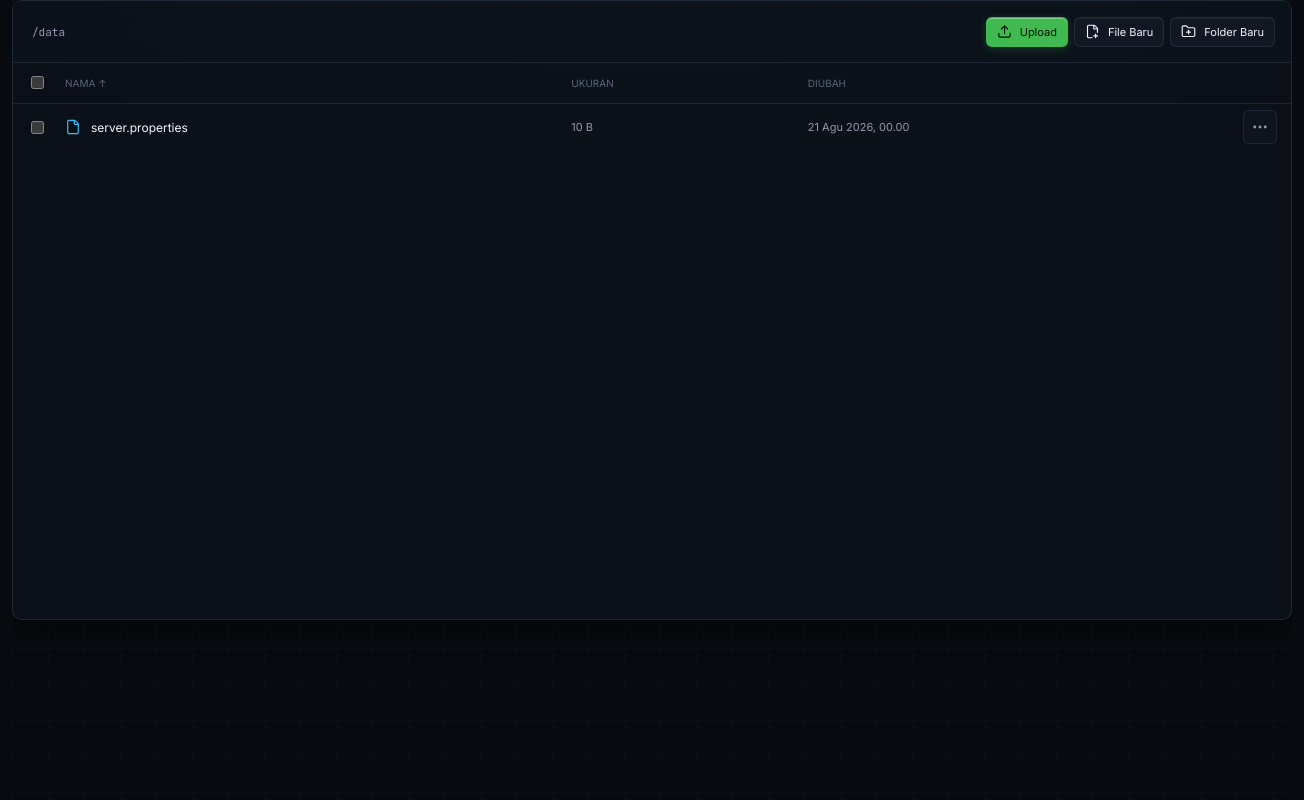
FileManager › opens a text file in the editor
This screenshot has width=1304, height=800.
What coordinates should you click on to do the following:
click the button "server.properties"
I would click on:
 (126, 127)
Its box is [65,118,188,136].
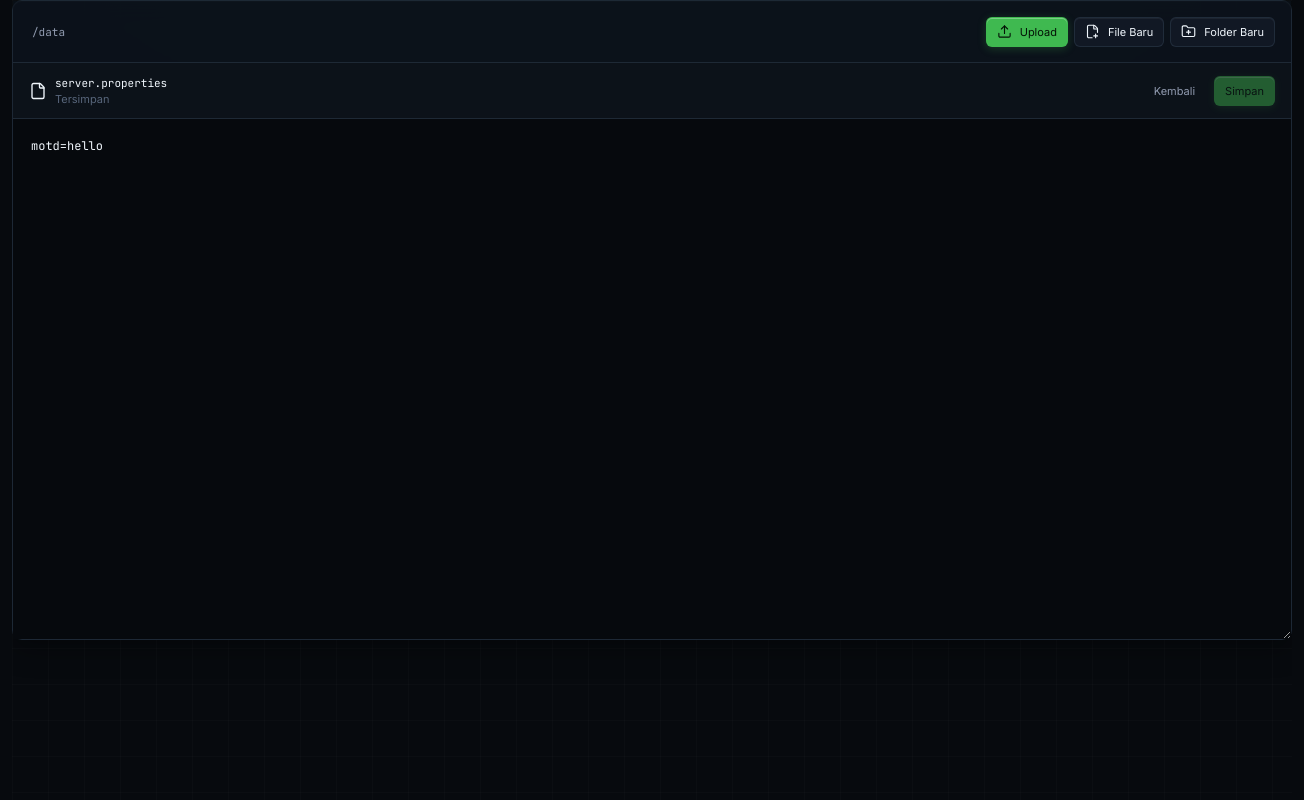
Result: the text box named "Isi file" holds "motd=hello"
